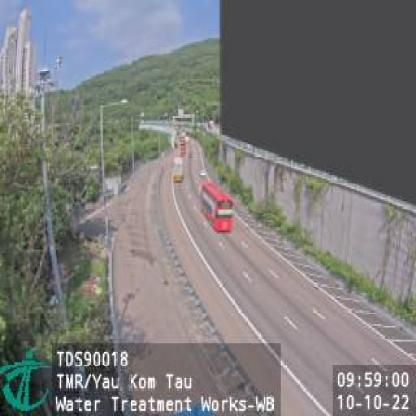Bus: (201, 178, 233, 234)
